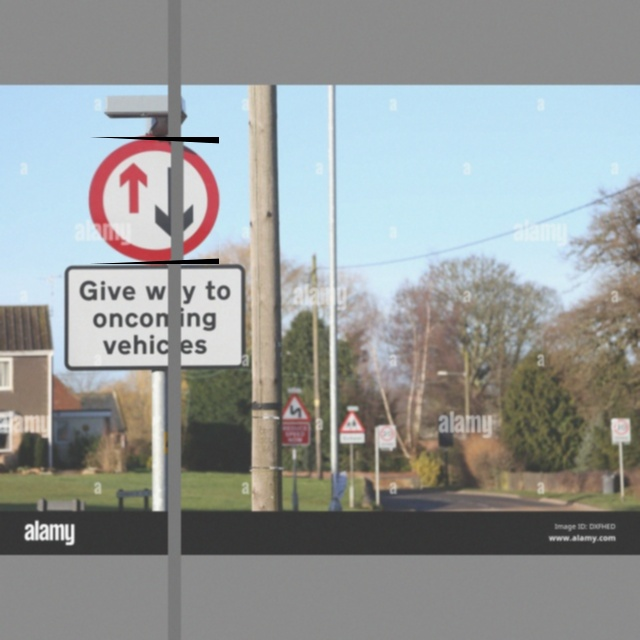Priority_for_Oncoming_Traffic: (89, 137, 219, 264)
